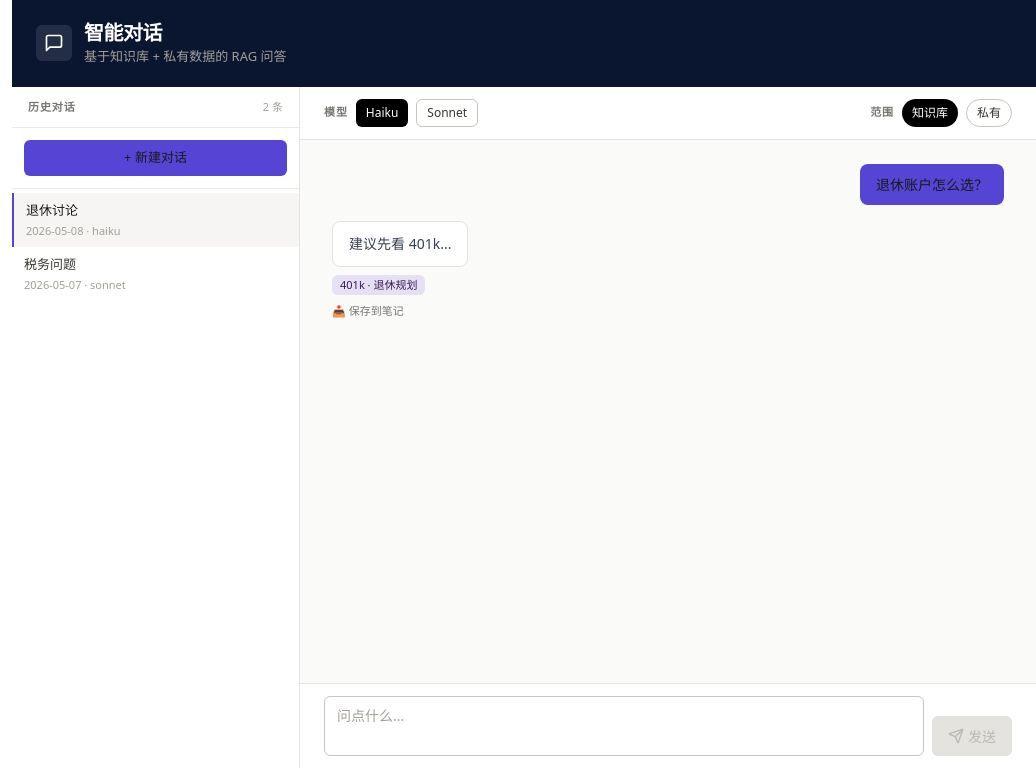
Test case: ChatView save-to-notes › clicking 保存到笔记 expands an inline form pre-filled with title, directory, content
Click the button "📥 保存到笔记": [368, 311] box 332,303 -> 404,320
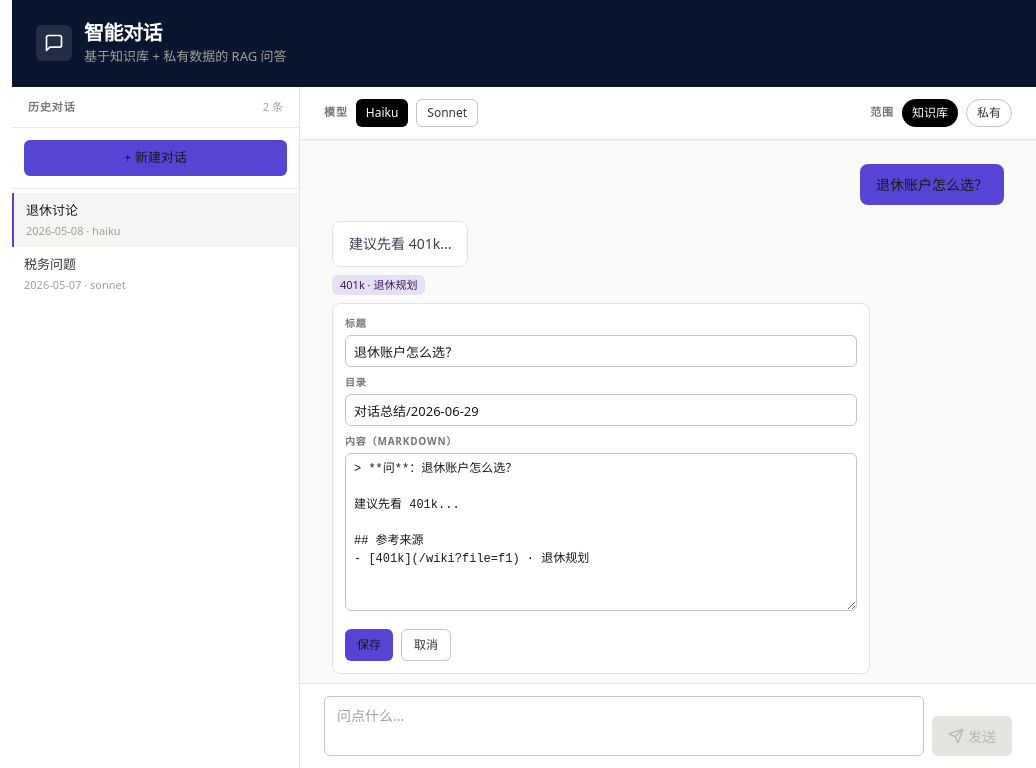
Expected: the element showing "标题 目录 内容（Markdown） 保存 取消" is shown, 332,303 -> 870,674
